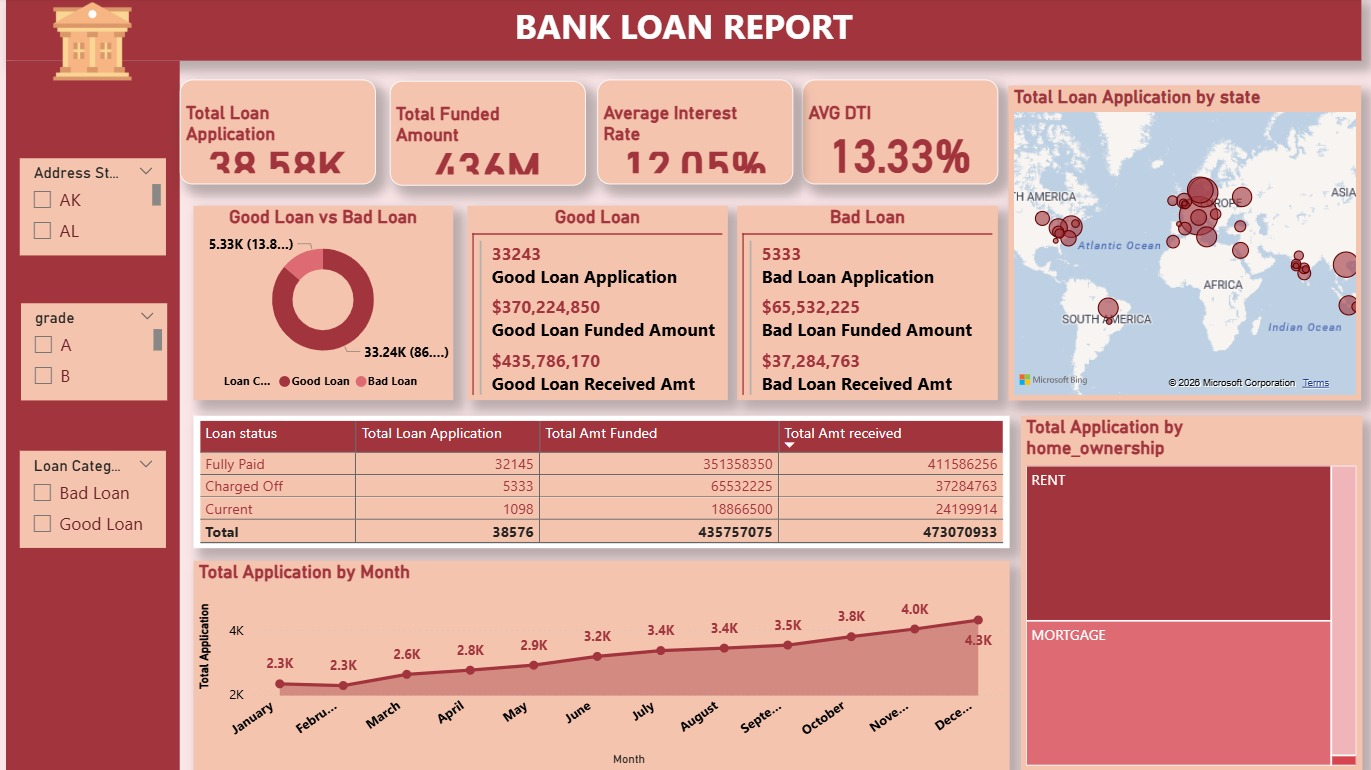

What the dashboard file says about the page in this screenshot:
{"tool":"powerbi","page":{"name":"Page 1","canvas":[1280,720],"ordinal":0},"visuals":[{"type":"textbox","box":[9.6,0,1261.1,59],"z":0},{"type":"shape","box":[9.6,59,161.9,661.4],"z":1000},{"type":"image","box":[22,0,135.8,82.3],"z":2000},{"type":"card","title":"Total Loan Application","fields":{"Values":["Count(financial_loan.member_id)"]},"box":[171.3,77.2,182.2,97.7],"z":3000},{"type":"card","title":"Total Funded Amount","fields":{"Values":["Sum(financial_loan.loan_amount)"]},"box":[366.8,78.4,182.2,97.7],"z":4000},{"type":"card","title":"AVG  DTI","fields":{"Values":["financial_loan.Avg dti"]},"box":[750.4,77.2,182.2,97.7],"z":5000},{"type":"card","title":"Average Interest Rate","fields":{"Values":["financial_loan.Average interest rate"]},"box":[559.8,77.2,182.2,97.7],"z":6000},{"type":"donutChart","title":"Good Loan vs Bad Loan","fields":{"Category":["financial_loan.Loan Category"],"Y":["CountNonNull(financial_loan.id)"]},"box":[183.4,194.2,241.3,181],"z":7000},{"type":"multiRowCard","title":"Good Loan","fields":{"Values":["Table Measure.good_loan_app","Table Measure.Good_loan_funded_amt","Table Measure.good_loan_receive_amt"]},"box":[437.9,194.2,242.5,181],"z":8000},{"type":"multiRowCard","title":"Bad Loan","fields":{"Values":["Table Measure.bad_loan_app","Table Measure.Bad_loan_funded_amt","Table Measure.bad_loan_receive_amt"]},"box":[690.1,194.2,242.5,181],"z":9000},{"type":"tableEx","fields":{"Values":["financial_loan.loan_status","Table Measure.total_loan_app","Table Measure.total_funded_amt","Table Measure.Total_received_amt"]},"box":[183.4,389.7,758.9,123.1],"z":10000},{"type":"map","title":"Total Loan Application by state","fields":{"Category":["financial_loan.address_state"],"Size":["Table Measure.total_loan_app"]},"box":[942.2,82,328.2,293.2],"z":11000},{"type":"areaChart","fields":{"Category":["financial_loan.issue_date.Variation.Date Hierarchy.Month"],"Y":["CountNonNull(financial_loan.id)"]},"box":[183.4,524.8,758.9,195.4],"z":12000},{"type":"treemap","fields":{"Group":["financial_loan.home_ownership"],"Values":["CountNonNull(financial_loan.id)"]},"box":[953.1,389.7,317.3,330.6],"z":13000},{"type":"slicer","fields":{"Values":["financial_loan.address_state"]},"box":[21.7,149.6,136.3,90.5],"z":14000},{"type":"slicer","fields":{"Values":["financial_loan.grade"]},"box":[22.9,284.7,136.3,90.5],"z":15000},{"type":"slicer","fields":{"Values":["financial_loan.Loan Category"]},"box":[21.7,422.3,136.3,90.5],"z":16000}]}

Visuals, with their boxes in screenshot pixels (x1, y1, x2, y2), scaled from the page's 1280x720 canvas onto the 1371x770 screenshot:
textbox: BBox(10, 0, 1361, 63)
shape: BBox(10, 63, 184, 769)
image: BBox(24, 0, 169, 88)
"Total Loan Application" card: BBox(183, 83, 379, 187)
"Total Funded Amount" card: BBox(393, 84, 588, 188)
"AVG  DTI" card: BBox(804, 83, 999, 187)
"Average Interest Rate" card: BBox(600, 83, 795, 187)
"Good Loan vs Bad Loan" donutChart: BBox(196, 208, 455, 401)
"Good Loan" multiRowCard: BBox(469, 208, 729, 401)
"Bad Loan" multiRowCard: BBox(739, 208, 999, 401)
tableEx - financial_loan.loan_status x Table Measure.total_loan_app: BBox(196, 417, 1009, 548)
"Total Loan Application by state" map: BBox(1009, 88, 1361, 401)
areaChart - financial_loan.issue_date.Variation.Date Hierarchy.Month x CountNonNull(financial_loan.id): BBox(196, 561, 1009, 769)
treemap - financial_loan.home_ownership x CountNonNull(financial_loan.id): BBox(1021, 417, 1361, 769)
slicer - financial_loan.address_state: BBox(23, 160, 169, 257)
slicer - financial_loan.grade: BBox(25, 304, 171, 401)
slicer - financial_loan.Loan Category: BBox(23, 452, 169, 548)
